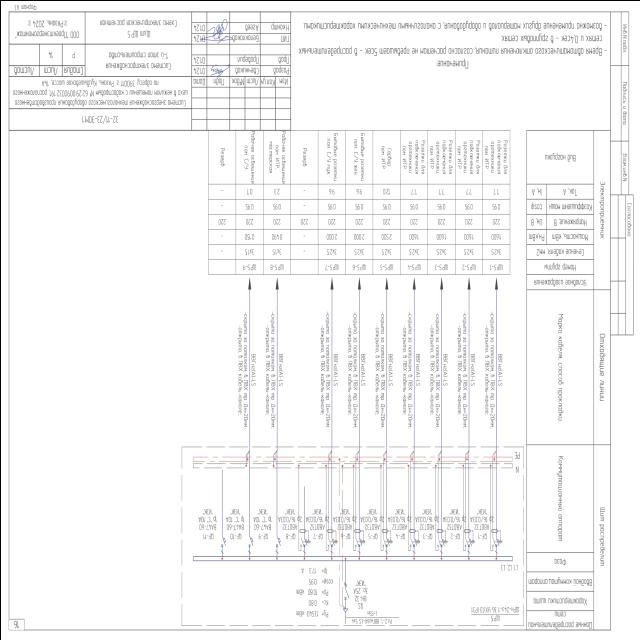-: (468, 603, 519, 623), (386, 505, 412, 529), (276, 506, 302, 530), (331, 506, 356, 530), (441, 506, 466, 530), (414, 506, 438, 530), (360, 506, 384, 530), (304, 506, 328, 530), (468, 506, 493, 529), (252, 506, 271, 530), (224, 506, 243, 530), (198, 506, 216, 530), (352, 578, 368, 602)
QF: (220, 534, 226, 547), (247, 535, 253, 548), (274, 534, 280, 547)
QFD: (489, 528, 502, 548), (298, 528, 310, 548), (325, 527, 337, 547), (352, 527, 364, 547), (380, 528, 392, 548), (407, 527, 419, 547), (435, 527, 447, 547), (462, 528, 474, 548)
QS: (343, 588, 349, 600)
